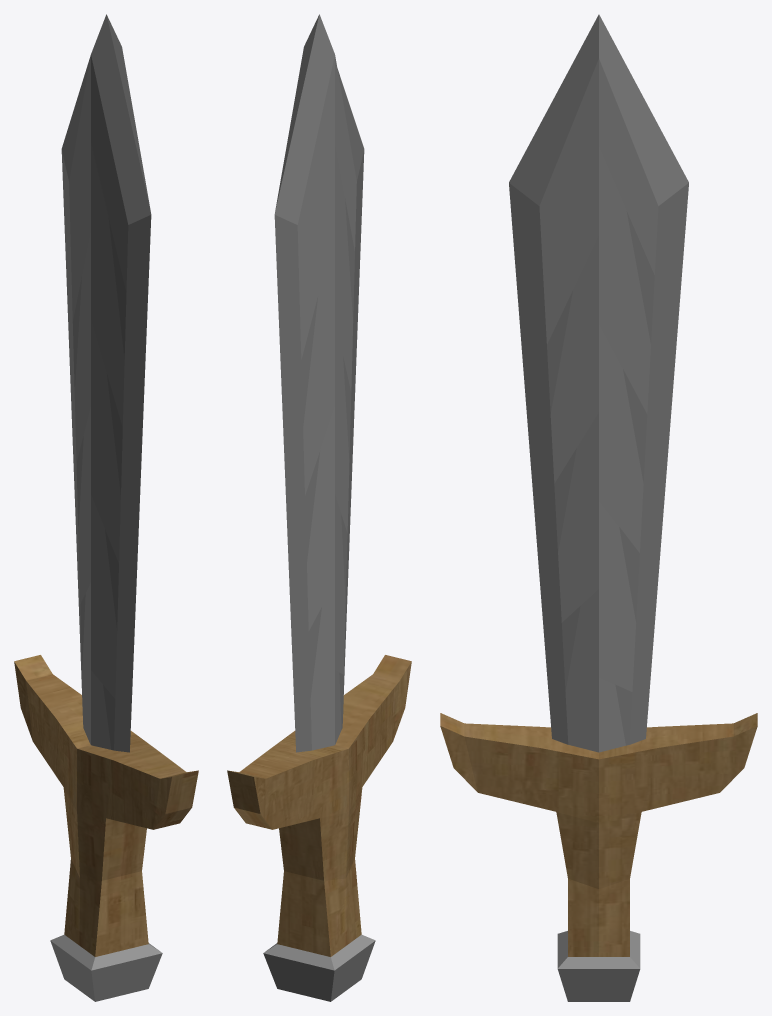
File: item_sword_stone.fbx
The picture shows the model from 3 angles, left to right: view 1: azimuth 30°, elevation 25°; view 2: azimuth 150°, elevation 25°; view 3: azimuth 270°, elevation 25°; orthographic projection.
Parts seen in each view (by area): view 1: Hold; view 2: Hold; view 3: Hold.
Boxes of the visible parts, bbox=[...] form: Hold: bbox=[14, 14, 198, 1001]; Hold: bbox=[227, 14, 411, 1001]; Hold: bbox=[440, 14, 757, 1001].
Bounding box in the file's own units: 100 × 1299 × 384.
3 materials, 1 textured.
